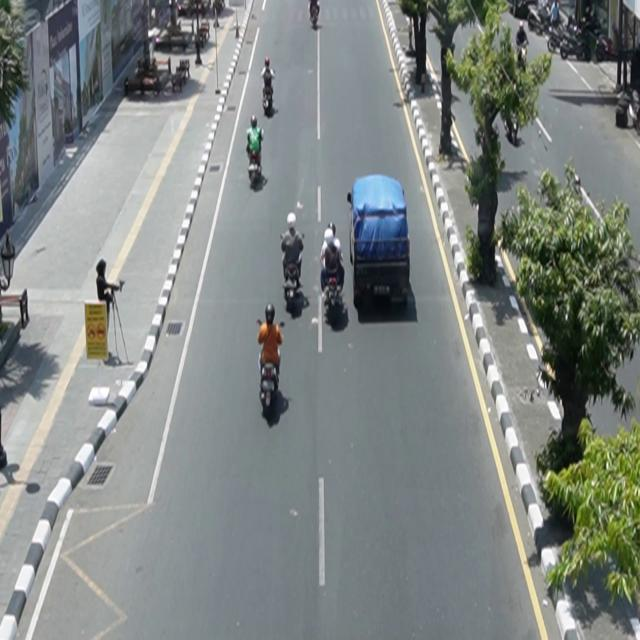truck: (348, 174, 411, 312)
